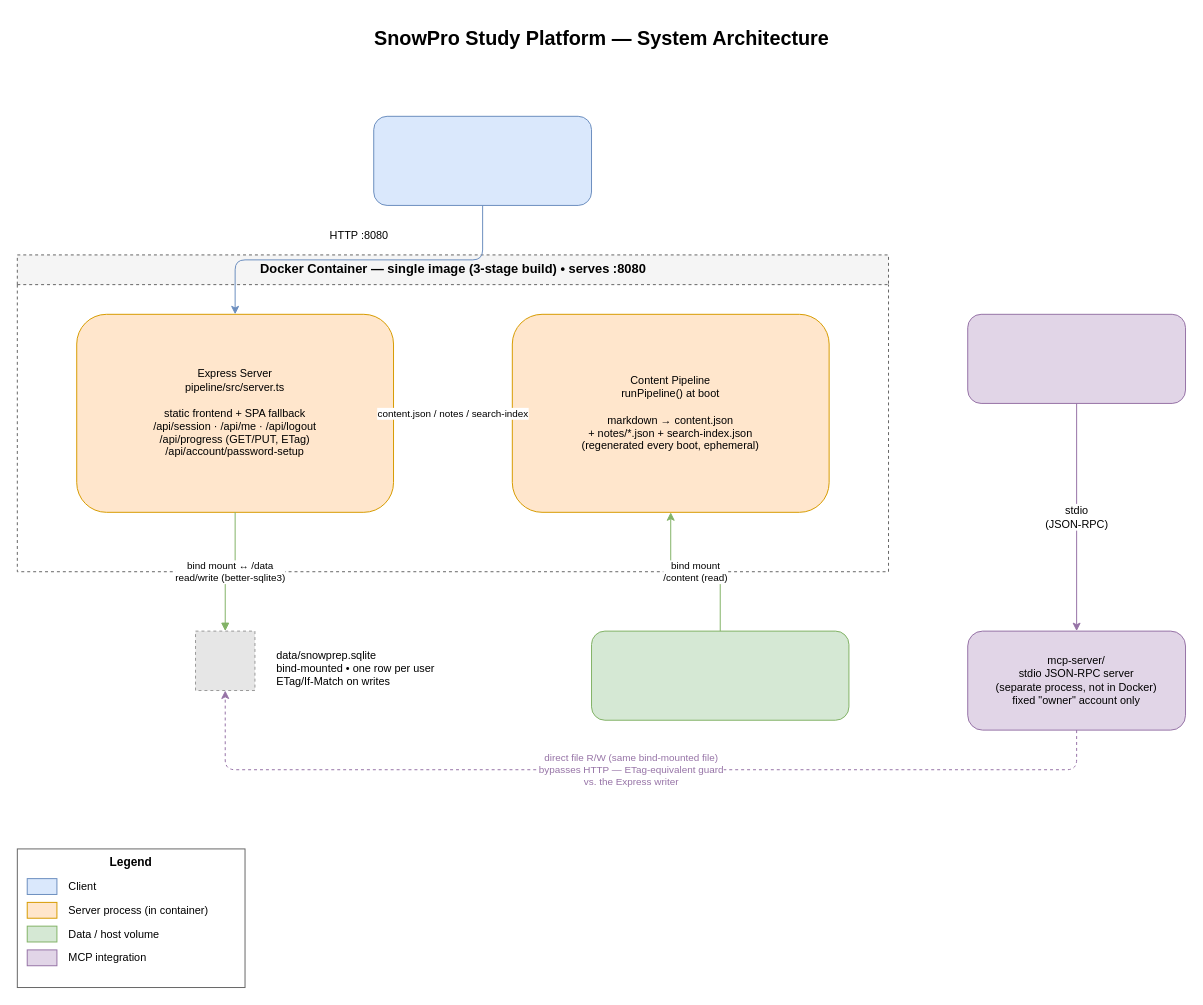
The diagram is 1203 pixels wide and 1005 high, and some of its shapes have lost their labels. Grey dashed boxes stand in for pictures. The shapes that lost their labels are listed below. From the top down, each one's centre as x and y in pixels, then its label:
At [482,160]: "Browser React 19 SPA (react-router-dom)".
At [1076,358]: "MCP Host Claude Desktop / Claude Code / voice agent".
At [720,675]: "SnowPro_Notes_and_Questions/ host folder (git-tracked) markdown source".
